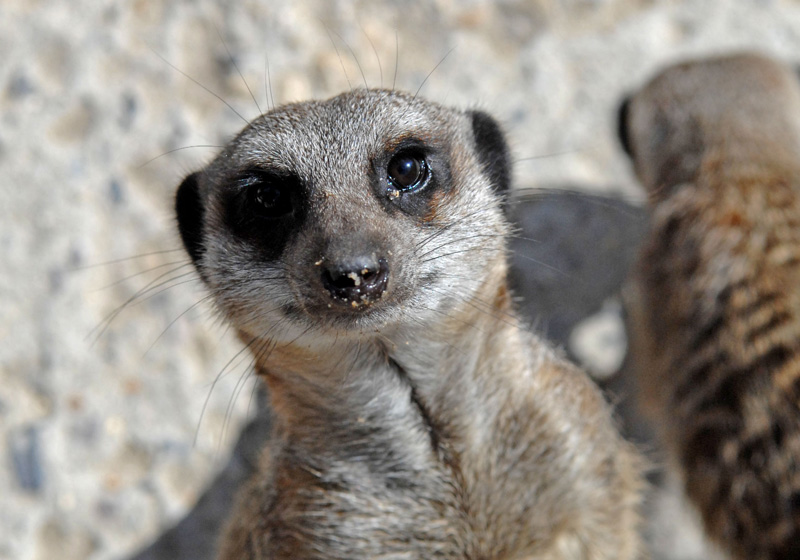meerkat: (148, 44, 622, 560)
